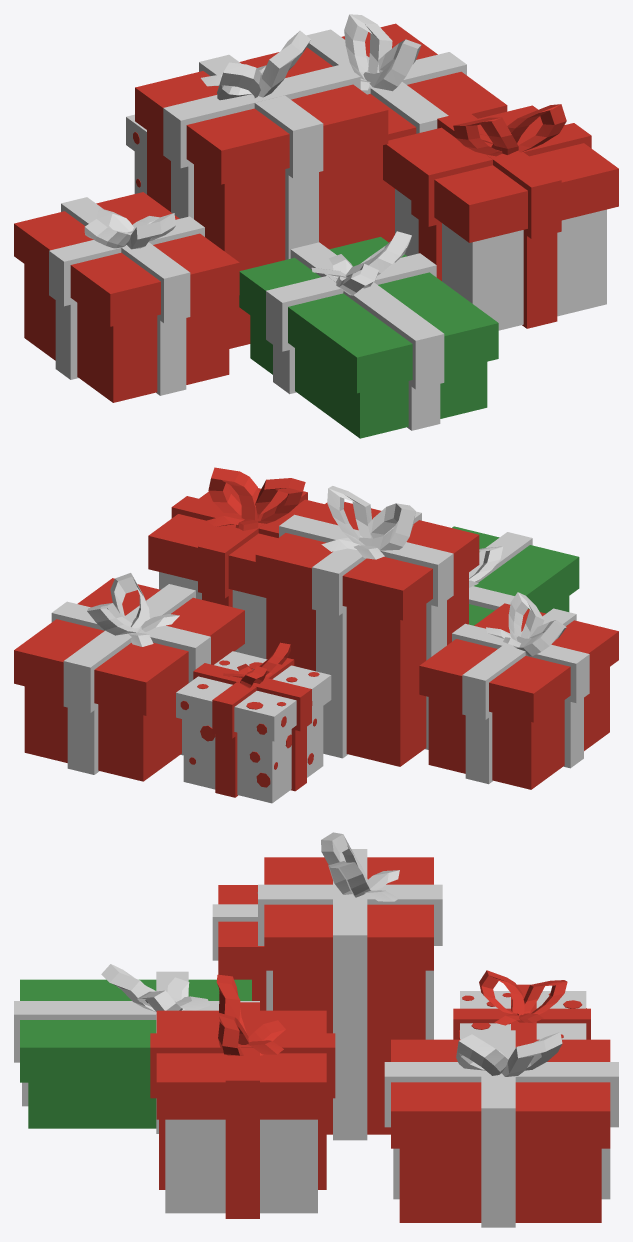
3 views of the same model, one above another, from view 1: azimuth 30°, elevation 25°; view 2: azimuth 150°, elevation 25°; view 3: azimuth 270°, elevation 25° (orthographic). The views are drawn at different scales.
Parts seen in each view (by area): view 1: node_MeshObject492578816-PolyPaper21; view 2: node_MeshObject492578816-PolyPaper21; view 3: node_MeshObject492578816-PolyPaper21.
Boxes of the visible parts, left/top/right/bottom form: node_MeshObject492578816-PolyPaper21: left=14, top=14, right=618, bottom=438; node_MeshObject492578816-PolyPaper21: left=14, top=467, right=618, bottom=803; node_MeshObject492578816-PolyPaper21: left=14, top=832, right=618, bottom=1227.
Bounding box in the file's own units: 2.62 × 1.33 × 2.81.
